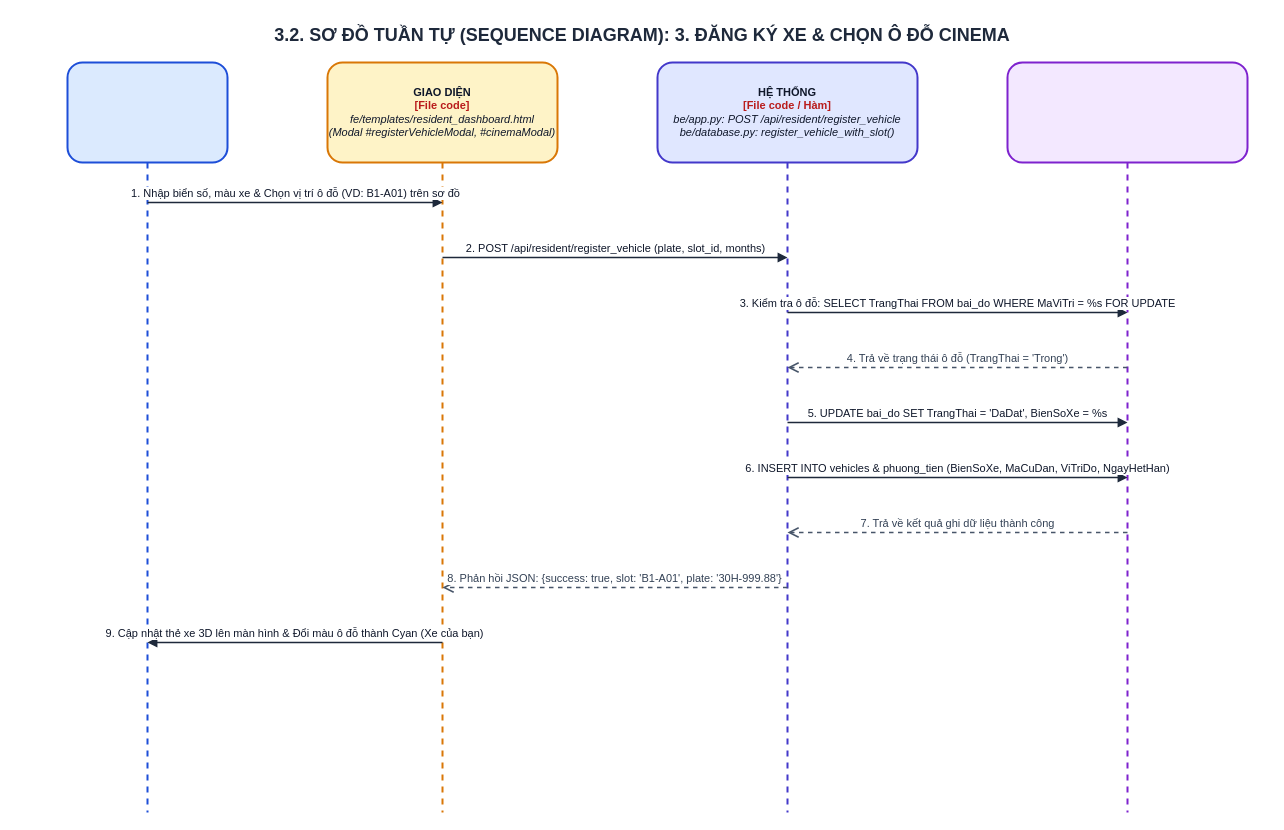
The diagram is 1284 pixels wide and 830 high, and some of its shapes have lost their labels. Each missing label, with the box of its shape:
CƠ SỞ DỮ LIỆU [db / Bảng] HTTT_QuanLyBaiXe_AI / bai_do, vehicles, phuong_tien: (1006, 61, 1248, 813)
TÁC NHÂN Cư Dân (Resident): (66, 61, 228, 813)
